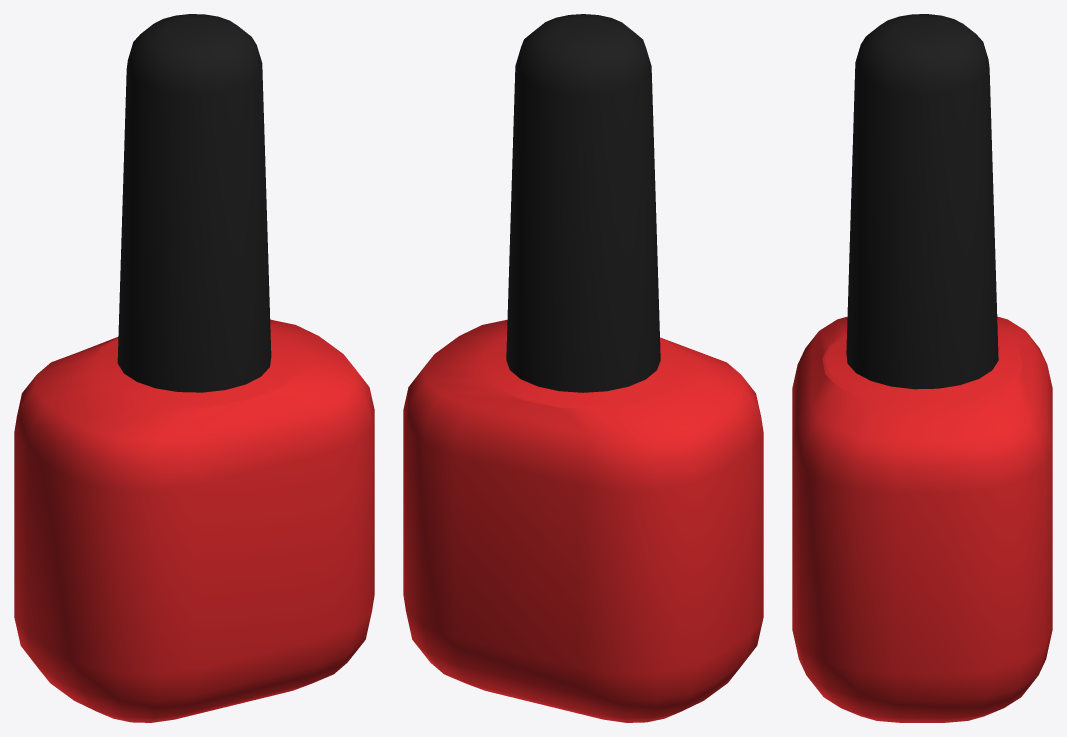
Rendered from nail_polish.fbx.
3 views of the same model, side by side, from view 1: azimuth 30°, elevation 25°; view 2: azimuth 150°, elevation 25°; view 3: azimuth 270°, elevation 25° (orthographic).
Parts seen in each view (by area): view 1: nail polish; view 2: nail polish; view 3: nail polish.
Part boxes in pixels (left/top/right/bottom): nail polish: left=14, top=14, right=374, bottom=722; nail polish: left=403, top=14, right=763, bottom=722; nail polish: left=792, top=14, right=1052, bottom=722.
Size of the model in its own units: 0.349 by 0.7077 by 0.2576.
